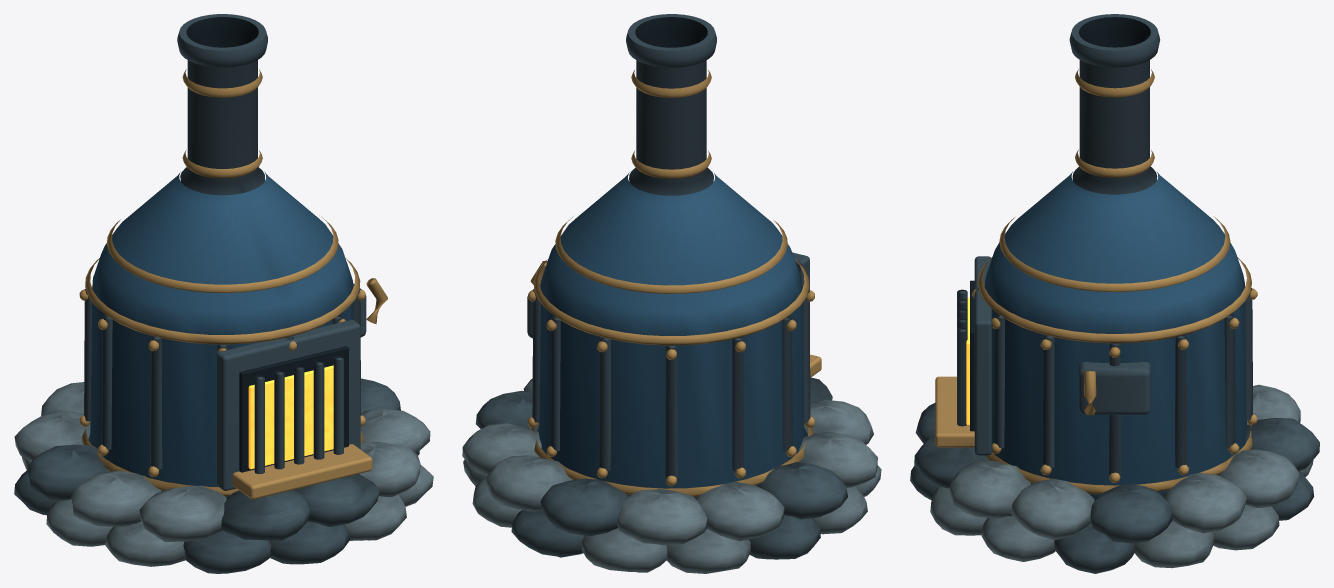
File: furnace.glb
3 views of the same model, side by side, from view 1: azimuth 30°, elevation 25°; view 2: azimuth 150°, elevation 25°; view 3: azimuth 270°, elevation 25° (orthographic).
Visible parts, largest first — view 1: furnace; view 2: furnace; view 3: furnace.
Boxes of the visible parts, x1=… form: furnace: x1=14, y1=14, x2=433, y2=573; furnace: x1=462, y1=14, x2=881, y2=573; furnace: x1=910, y1=14, x2=1319, y2=573.
Size of the model in its own units: 2.03 by 2.49 by 1.99.
7 materials, 7 textured.
